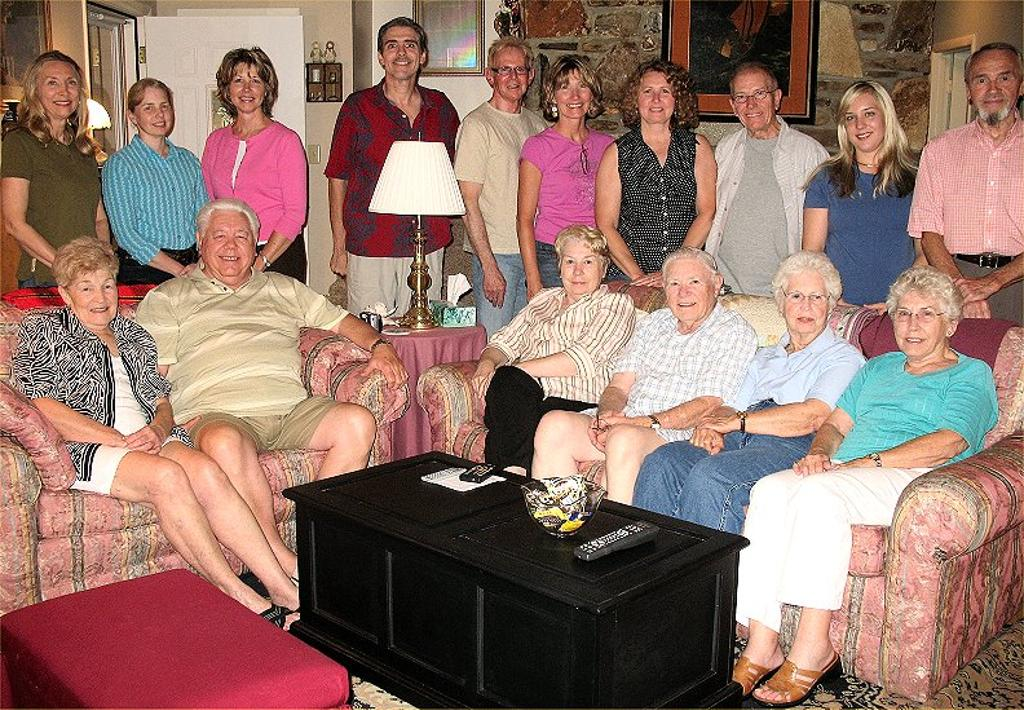face: (203, 213, 255, 275), (894, 293, 945, 353), (971, 60, 1018, 116), (667, 260, 709, 318), (784, 274, 827, 330), (72, 271, 116, 322), (38, 66, 79, 115), (732, 82, 775, 128), (845, 101, 885, 149), (562, 247, 601, 292), (492, 52, 529, 98), (384, 30, 420, 77), (637, 77, 675, 121), (229, 66, 265, 110), (135, 93, 172, 134), (555, 76, 592, 115)
